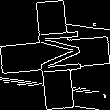M_W: (28, 30, 82, 80)
